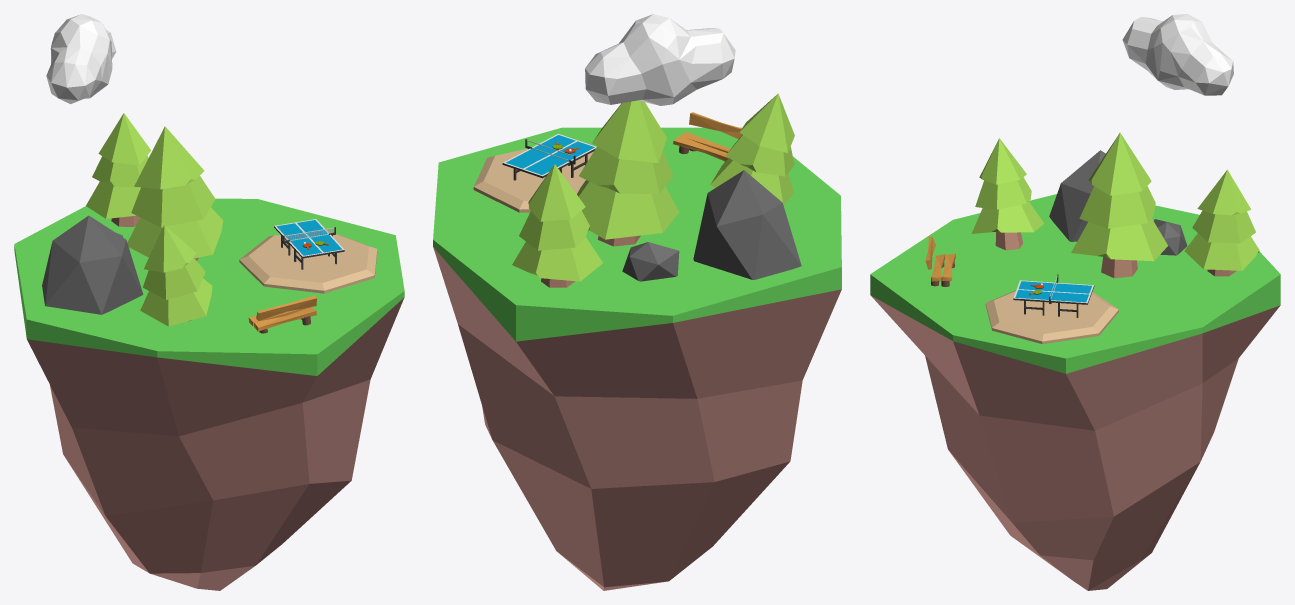
The model's file is island.glb.
3 renders of one model, left to right at view 1: azimuth 30°, elevation 25°; view 2: azimuth 150°, elevation 25°; view 3: azimuth 270°, elevation 25°, orthographic. The views are drawn at different scales.
Visible parts, largest first — view 1: Island01_Cylinder, Tree_Cylinder.001, Large_Rock_Icosphere.001, StonePlatform_Cylinder, Tree_Cylinder.002, Cloud, Tree_Cylinder, Box125, group2086105856, group447724109; view 2: Island01_Cylinder, Tree_Cylinder.001, Cloud, Large_Rock_Icosphere.001, Tree_Cylinder, Tree_Cylinder.002, StonePlatform_Cylinder, Box125, Small_Rock_Icosphere, group2086105856; view 3: Island01_Cylinder, Tree_Cylinder.001, Cloud, Tree_Cylinder, StonePlatform_Cylinder, Tree_Cylinder.002, Large_Rock_Icosphere.001, Box125, Small_Rock_Icosphere.
Boxes of the visible parts, x1=… form: Island01_Cylinder: x1=14, y1=198, x2=404, y2=590; Tree_Cylinder.001: x1=127, y1=126, x2=223, y2=260; Large_Rock_Icosphere.001: x1=42, y1=215, x2=143, y2=314; StonePlatform_Cylinder: x1=239, y1=231, x2=377, y2=293; Tree_Cylinder.002: x1=140, y1=225, x2=212, y2=326; Cloud: x1=46, y1=14, x2=116, y2=104; Tree_Cylinder: x1=86, y1=113, x2=150, y2=226; Box125: x1=274, y1=219, x2=344, y2=258; group2086105856: x1=256, y1=295, x2=316, y2=320; group447724109: x1=254, y1=307, x2=316, y2=331; Island01_Cylinder: x1=433, y1=127, x2=841, y2=590; Tree_Cylinder.001: x1=577, y1=100, x2=679, y2=246; Cloud: x1=585, y1=14, x2=735, y2=105; Large_Rock_Icosphere.001: x1=693, y1=170, x2=801, y2=279; Tree_Cylinder: x1=512, y1=164, x2=602, y2=287; Tree_Cylinder.002: x1=710, y1=93, x2=794, y2=205; StonePlatform_Cylinder: x1=473, y1=148, x2=593, y2=212; Box125: x1=502, y1=133, x2=596, y2=178; Small_Rock_Icosphere: x1=622, y1=242, x2=679, y2=281; group2086105856: x1=689, y1=112, x2=742, y2=138; Island01_Cylinder: x1=870, y1=194, x2=1280, y2=590; Tree_Cylinder.001: x1=1071, y1=132, x2=1168, y2=278; Cloud: x1=1122, y1=14, x2=1233, y2=95; Tree_Cylinder: x1=1184, y1=169, x2=1259, y2=276; StonePlatform_Cylinder: x1=985, y1=290, x2=1118, y2=344; Tree_Cylinder.002: x1=971, y1=138, x2=1044, y2=250; Large_Rock_Icosphere.001: x1=1049, y1=150, x2=1105, y2=241; Box125: x1=1013, y1=280, x2=1094, y2=304; Small_Rock_Icosphere: x1=1153, y1=219, x2=1187, y2=255.
Size of the model in its own units: 0.8871 by 1.3 by 0.9085.
